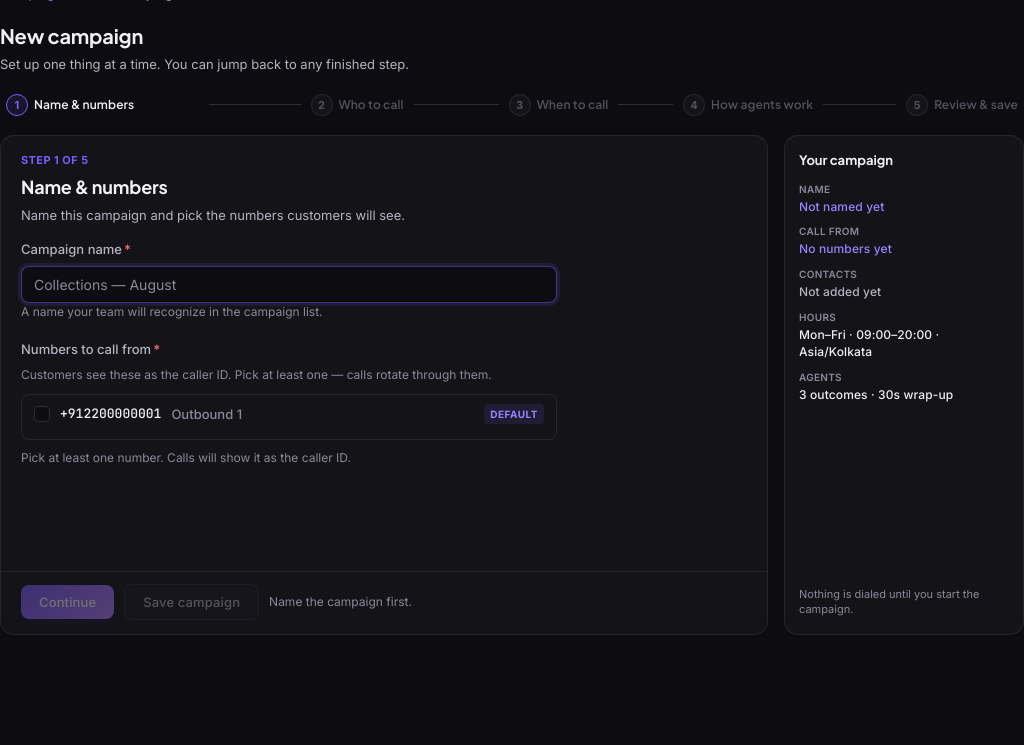
Test: the disposition catalog editor › says what the combination of flags actually does, not just which are on
In the field labelled "Campaign name*": (289, 284) [21,266,557,303], type "Collections"
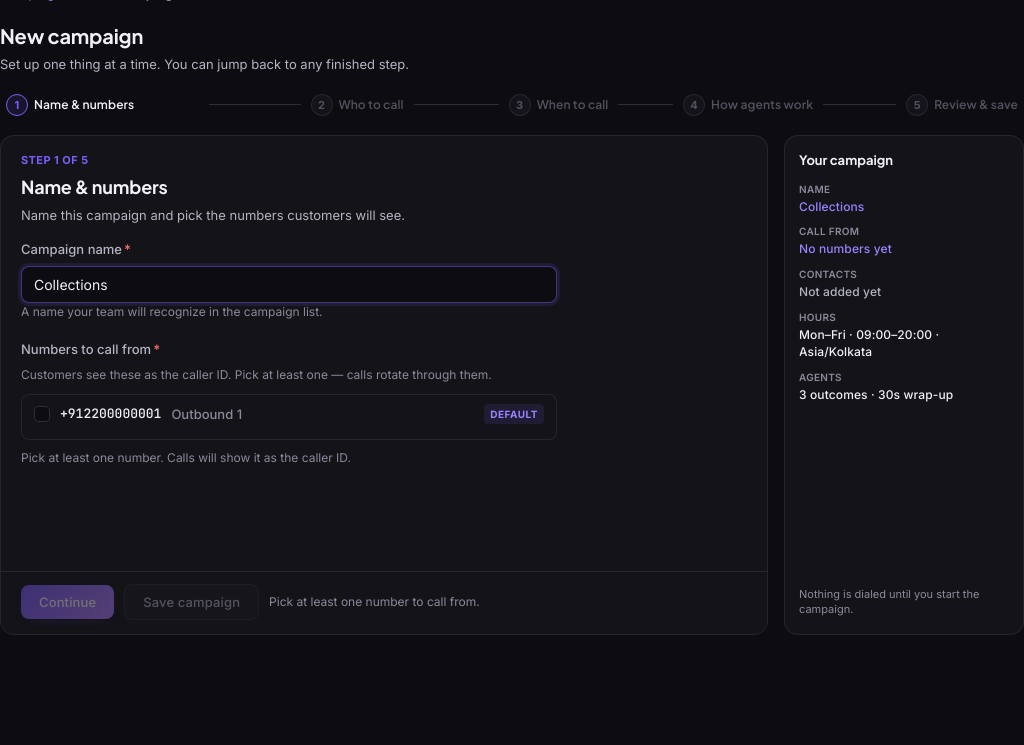
Click the checkbox labelled "+912200000001 Outbound 1 Default": (42, 414) [34,406,50,422]
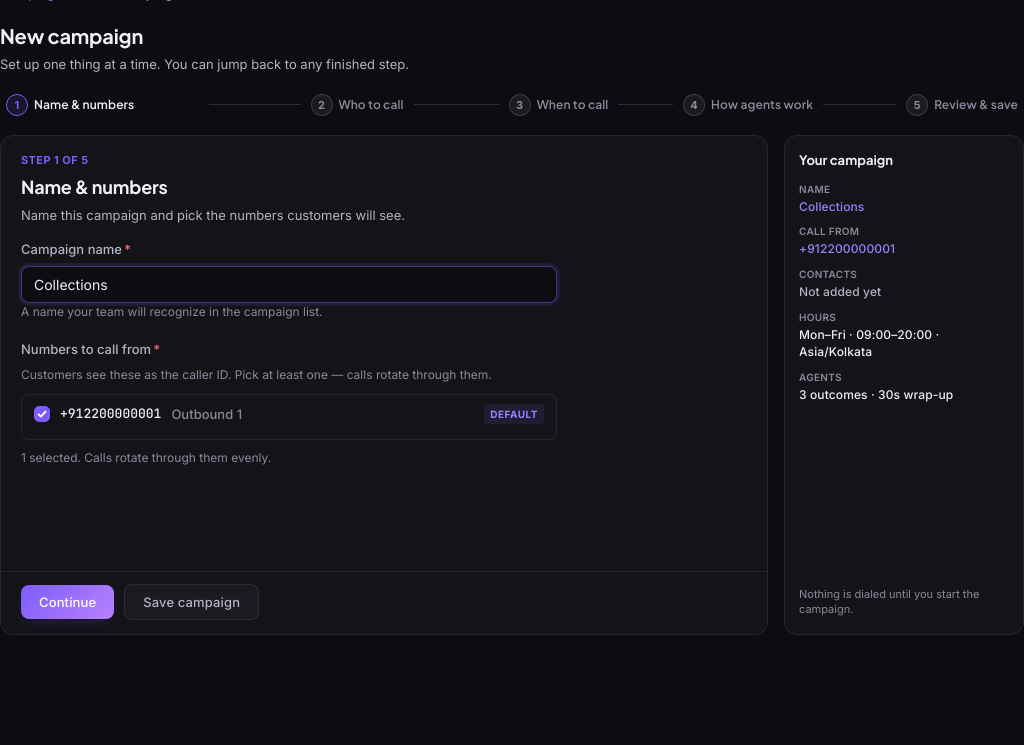
Click the button "4 How agents work": (748, 105) [677,89,819,121]
(page scrolled)
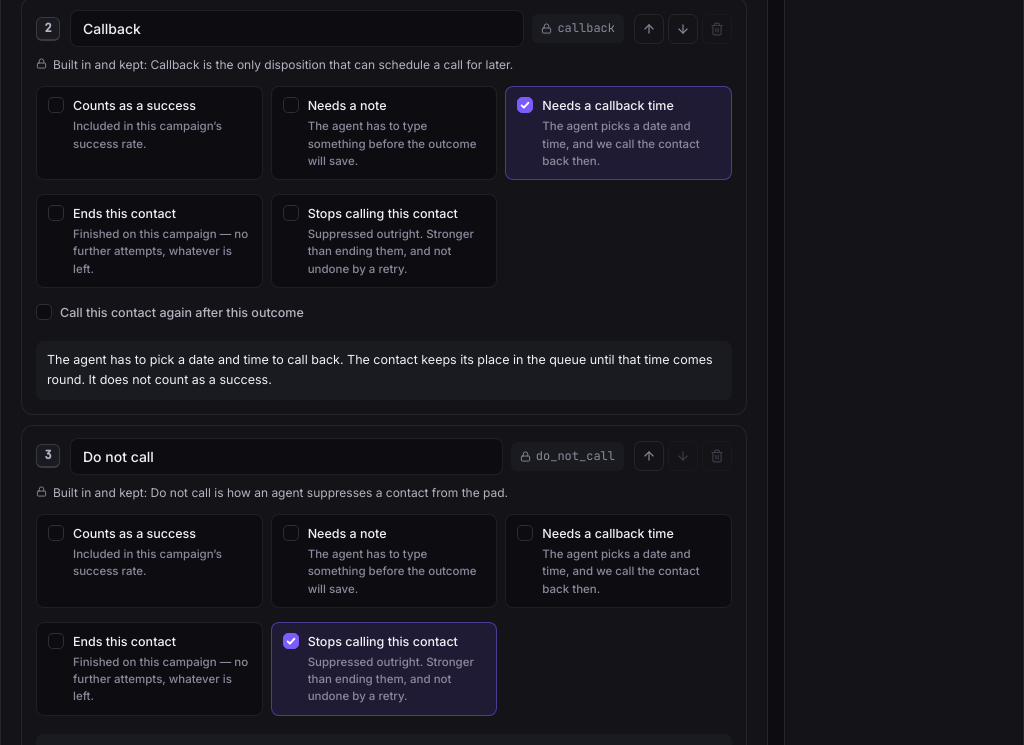
Expected: the text with test id "outcome-summary-1" shows "pick a date and time to call back", [47,352,713,387]
